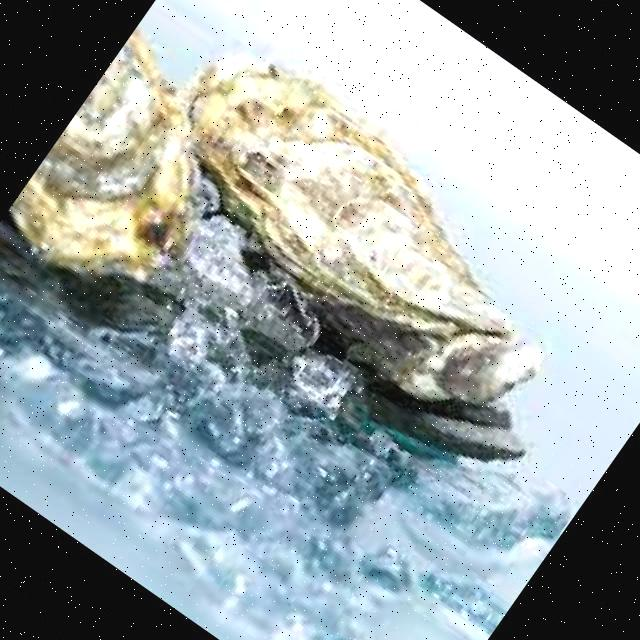Oyster-Closed: (180, 55, 527, 398), (10, 31, 200, 282)
